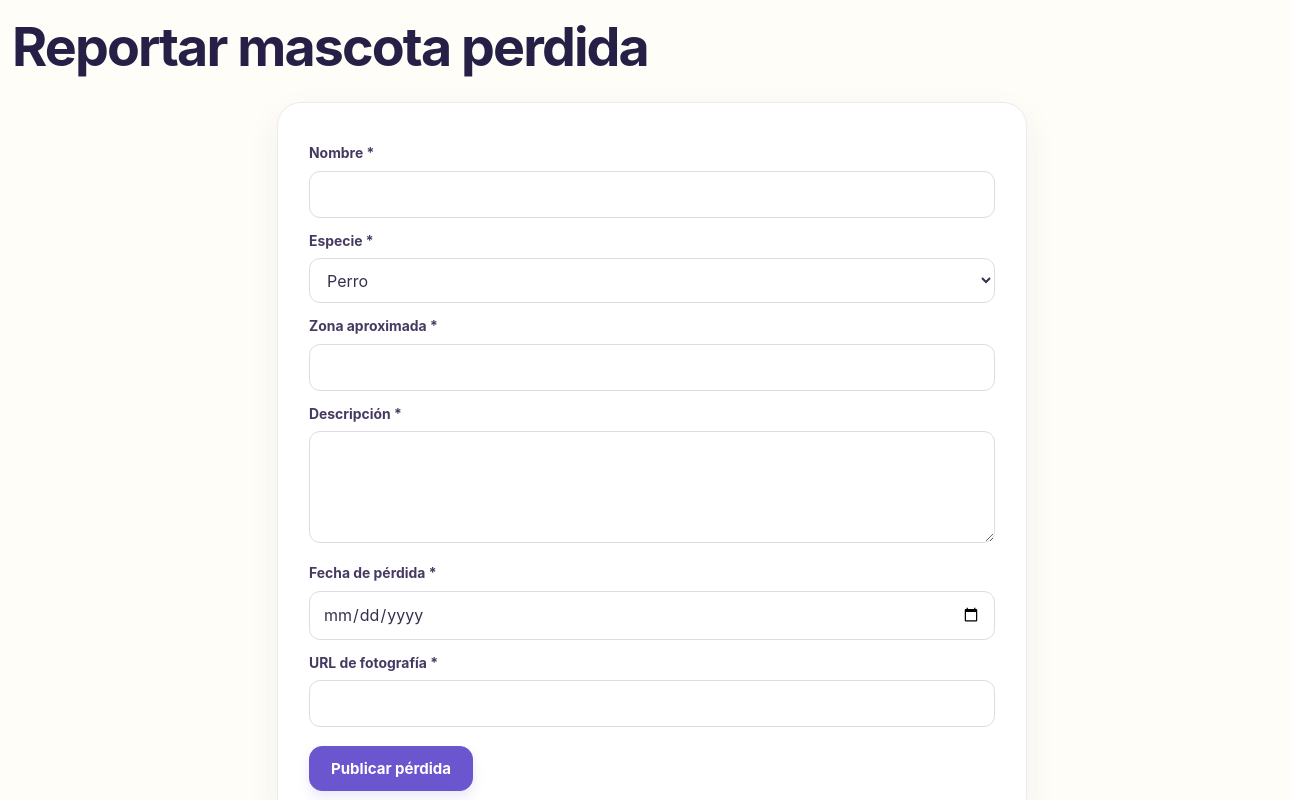
Test: Formulario de pérdida › muestra errores de validación
The image size is (1292, 800).
Select "Gato" in the dropdown labelled "Especie *" at (652, 281), box [309,258,995,303]
Type "Sarco" into the field labelled "Zona aproximada *" at (652, 367), box [309,344,995,391]
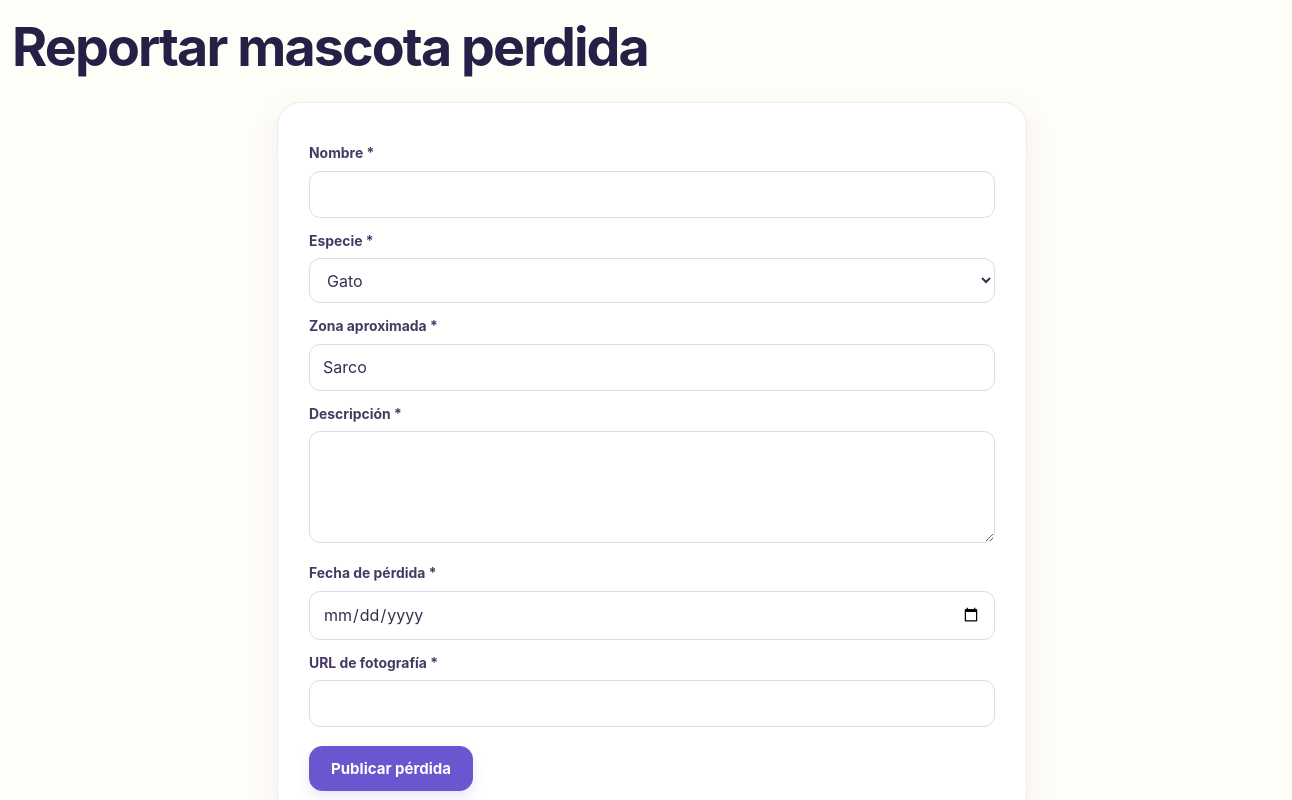
Type "Mascota de color blanco" into the text box labelled "Descripción *" at (652, 487), box [309,431,995,543]
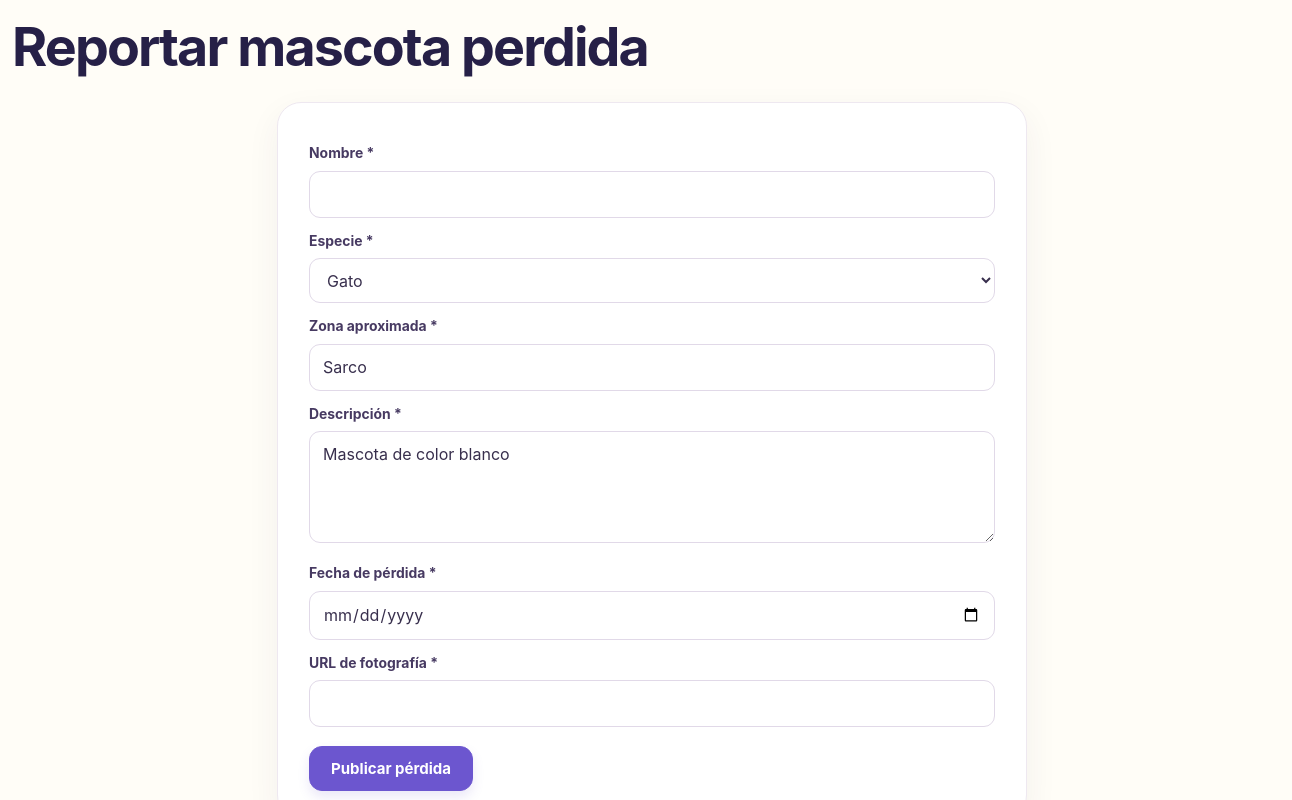
Type "2020-10-20" into the date field labelled "Fecha de pérdida *" at (652, 615), box [309,591,995,640]
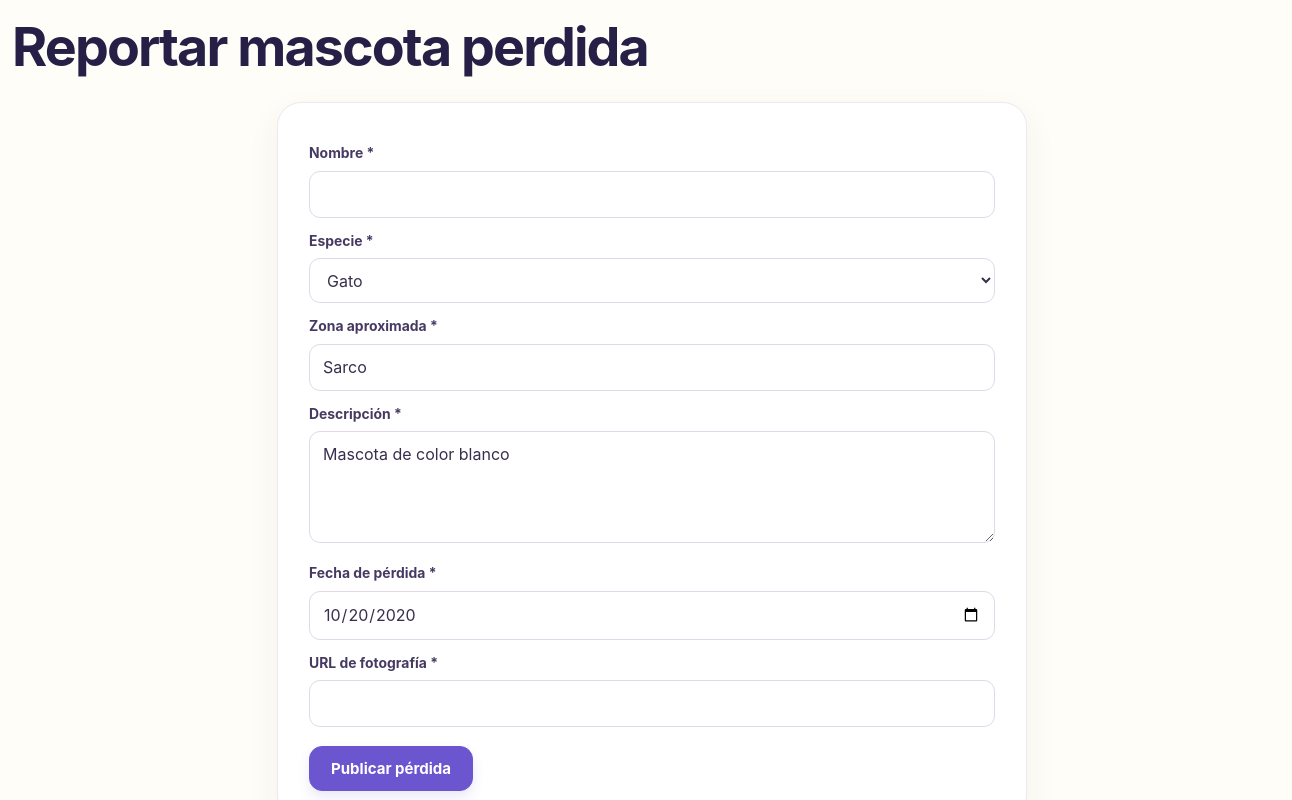
Type "Luna" into the field labelled "Nombre *" at (652, 194), box [309,171,995,218]
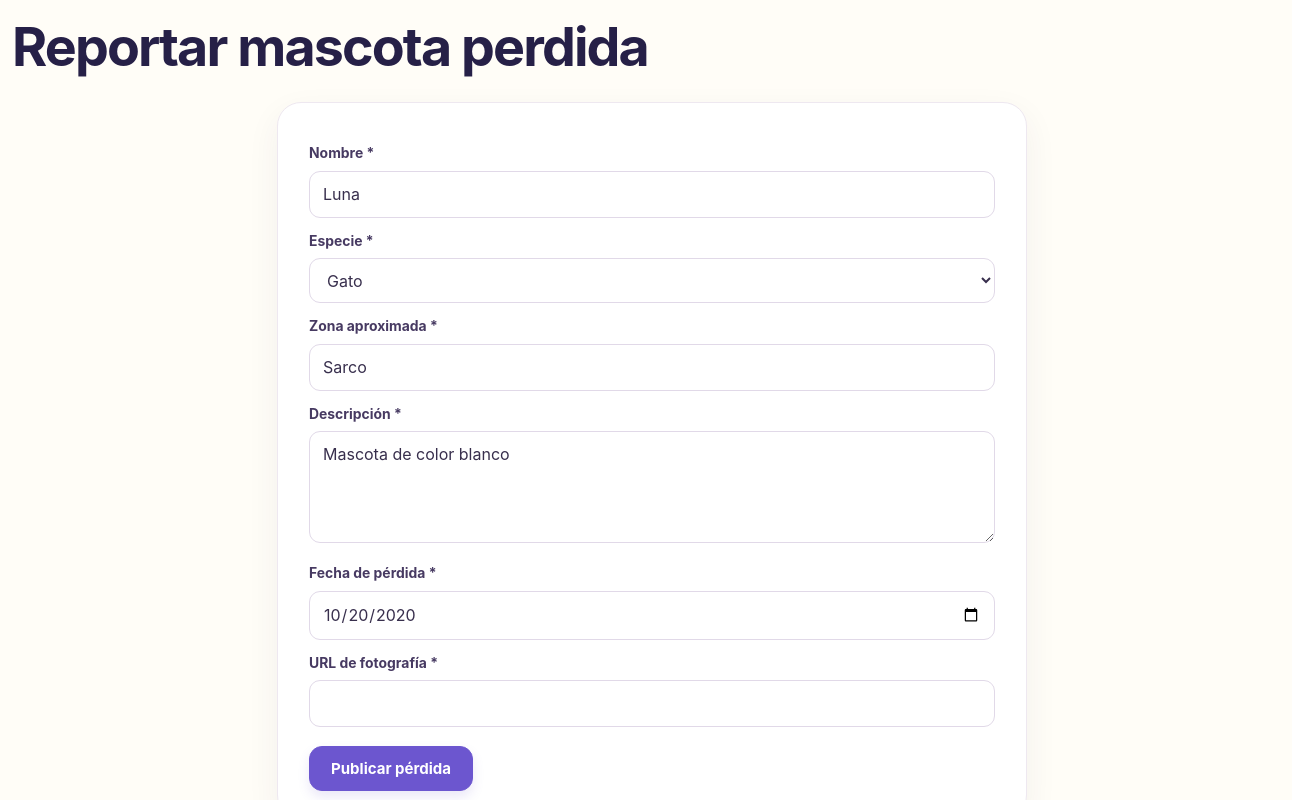
Type "https://example.com/luna.jpg" into the field labelled "URL de fotografía *" at (652, 704), box [309,680,995,727]
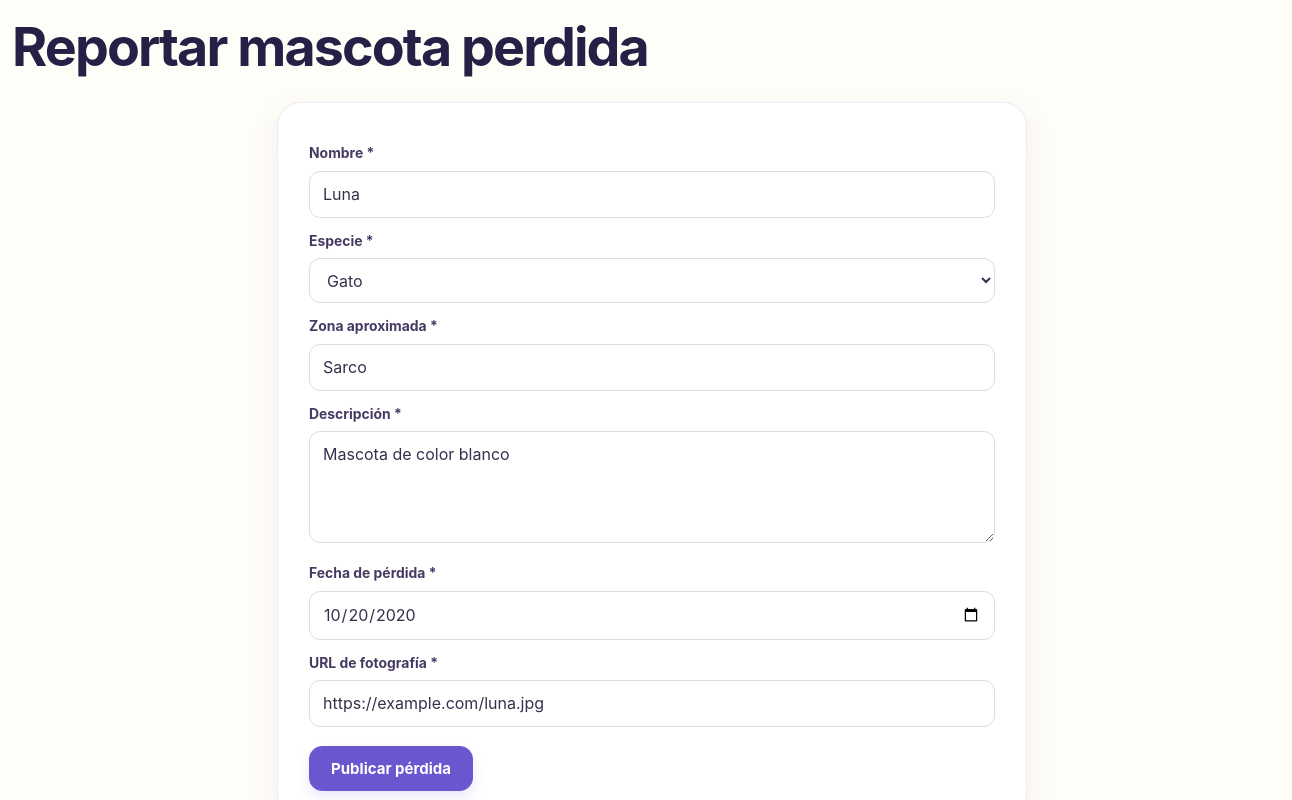
Click the button "Publicar pérdida" at (391, 768), box [309,746,473,791]
(page scrolled)
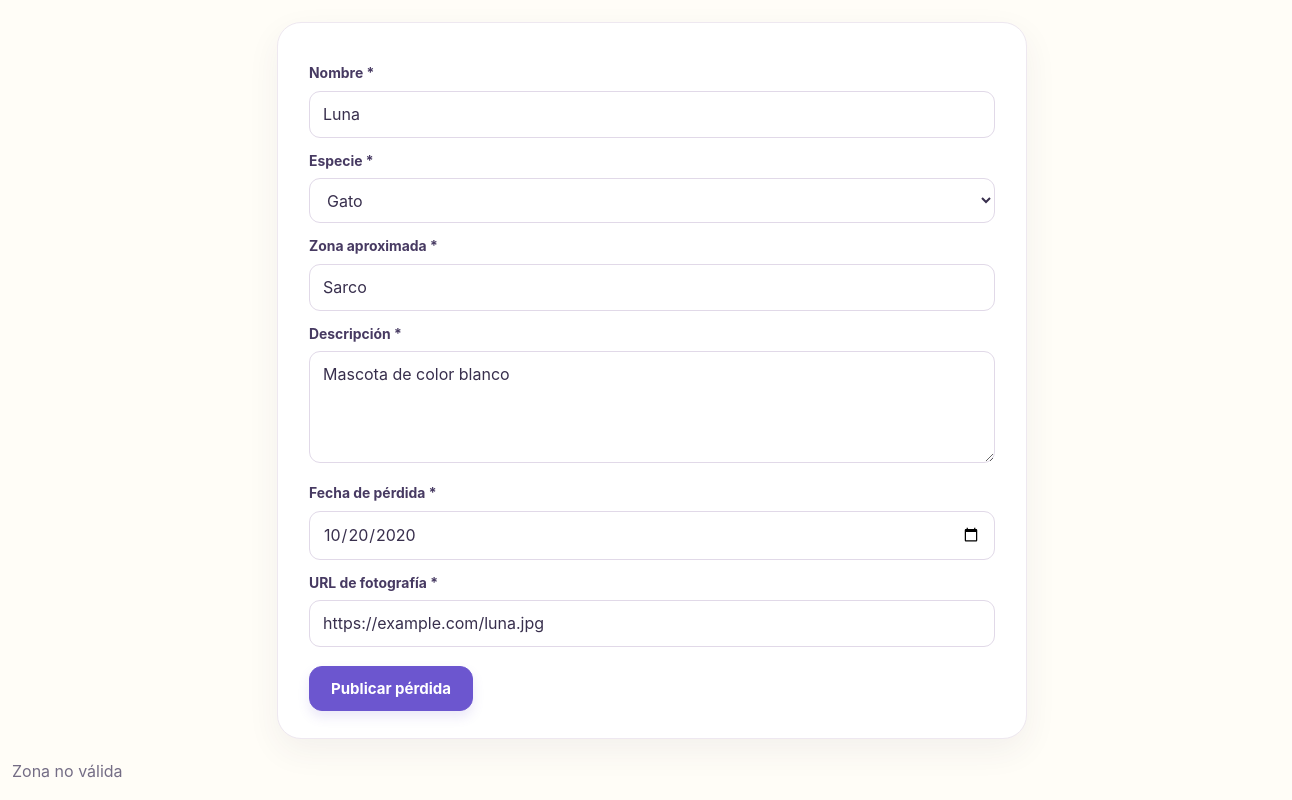
Check: the message reads "Zona no válida", box [12,761,123,781]
